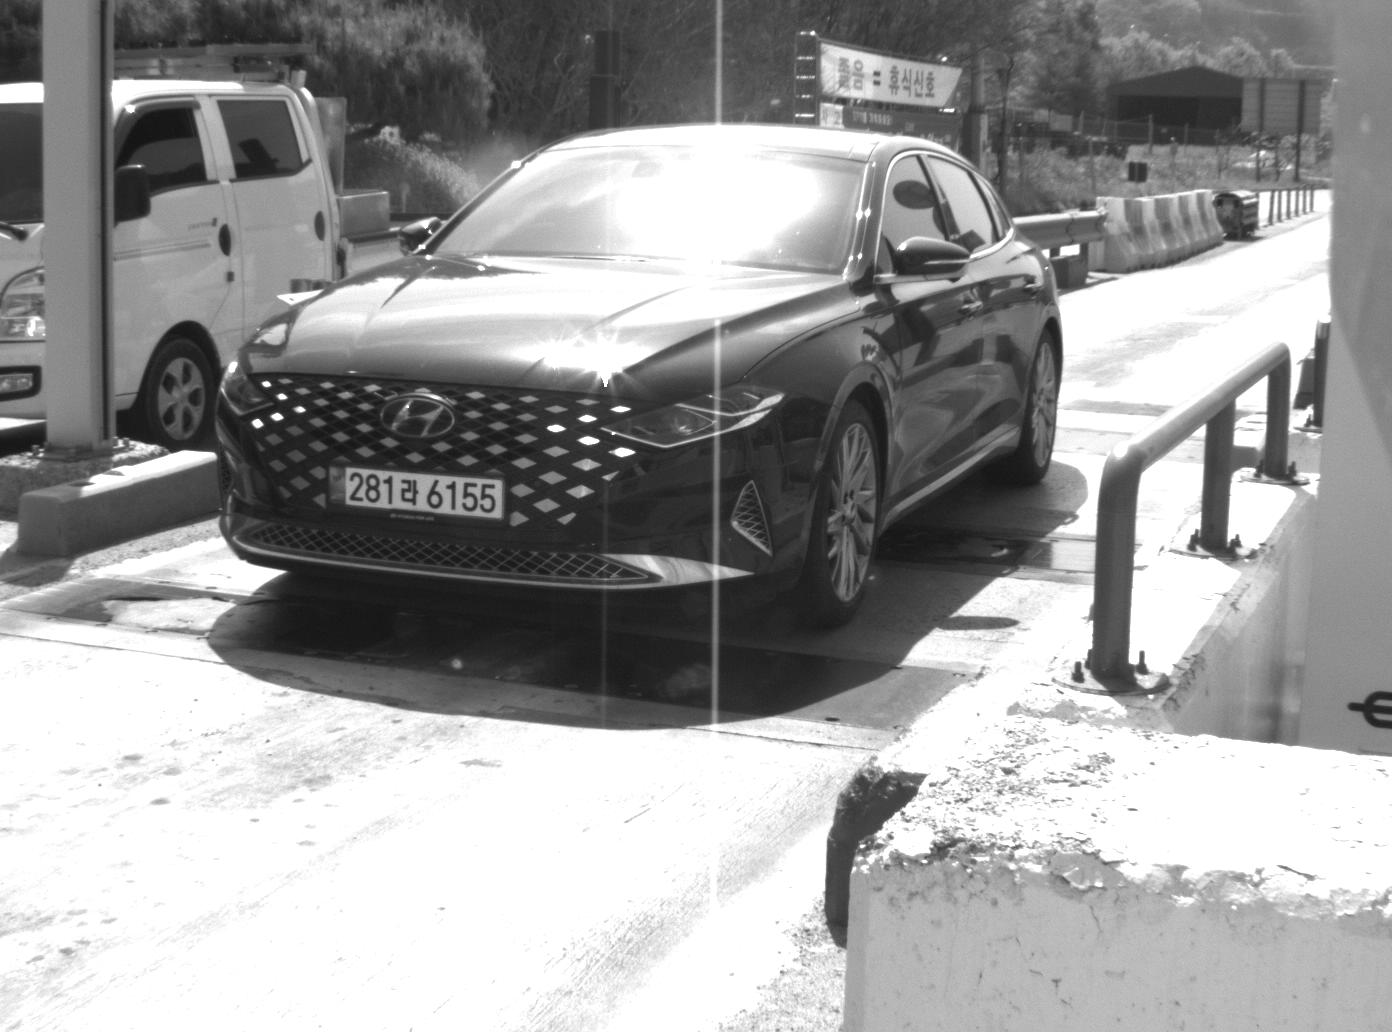car: (213, 120, 1071, 640), (1, 79, 448, 457)
plate: (322, 460, 509, 522)
